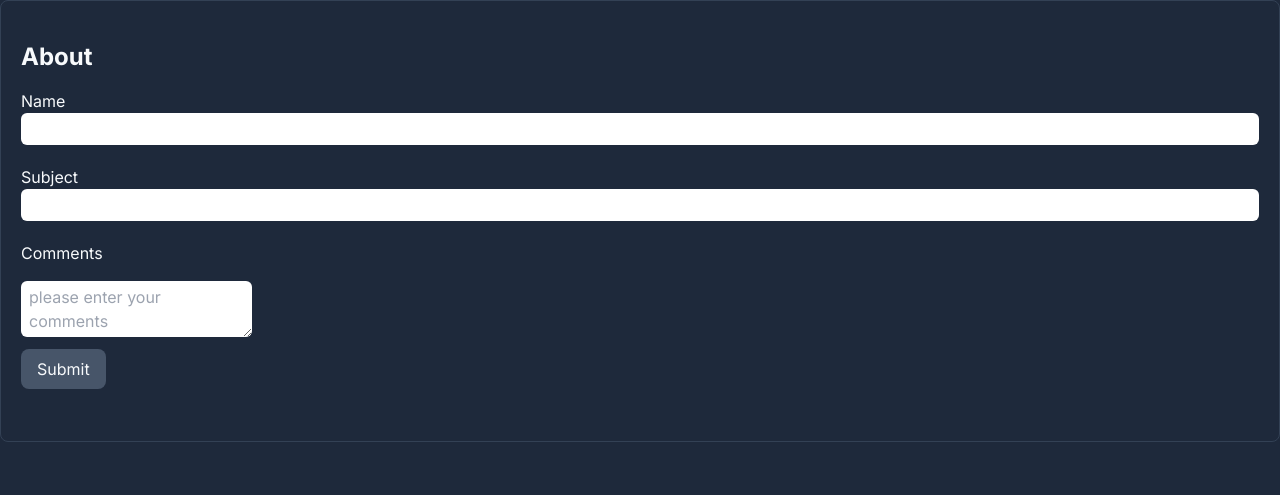
submit failed
Step 1. Type "Abraham" into the field labelled "Name" → [640, 129], box [21,113,1259,145]
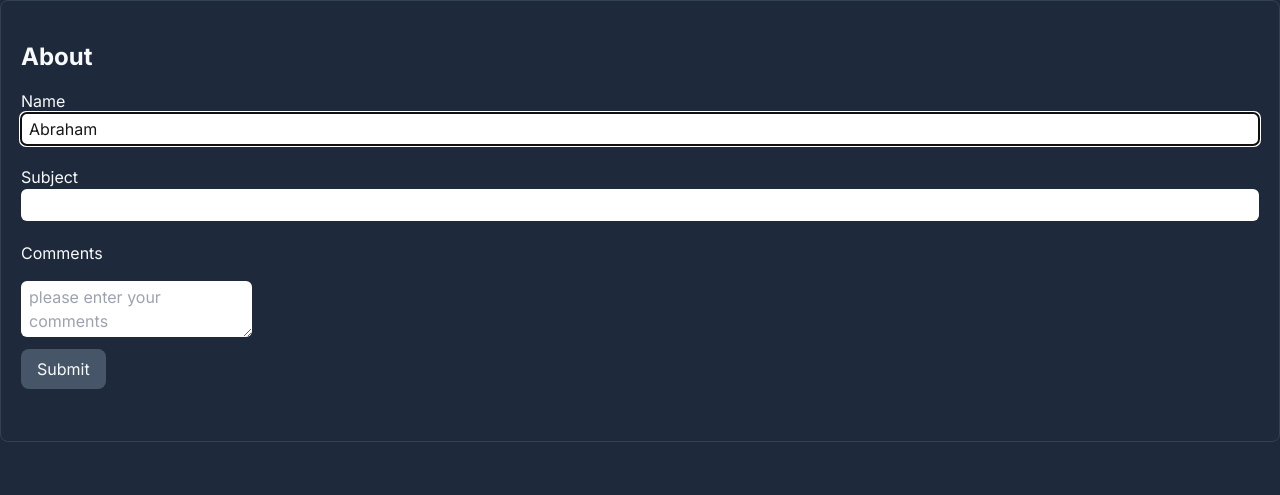
Step 2. Type "My feedback" into the field labelled "Subject" → [640, 205], box [21,189,1259,221]
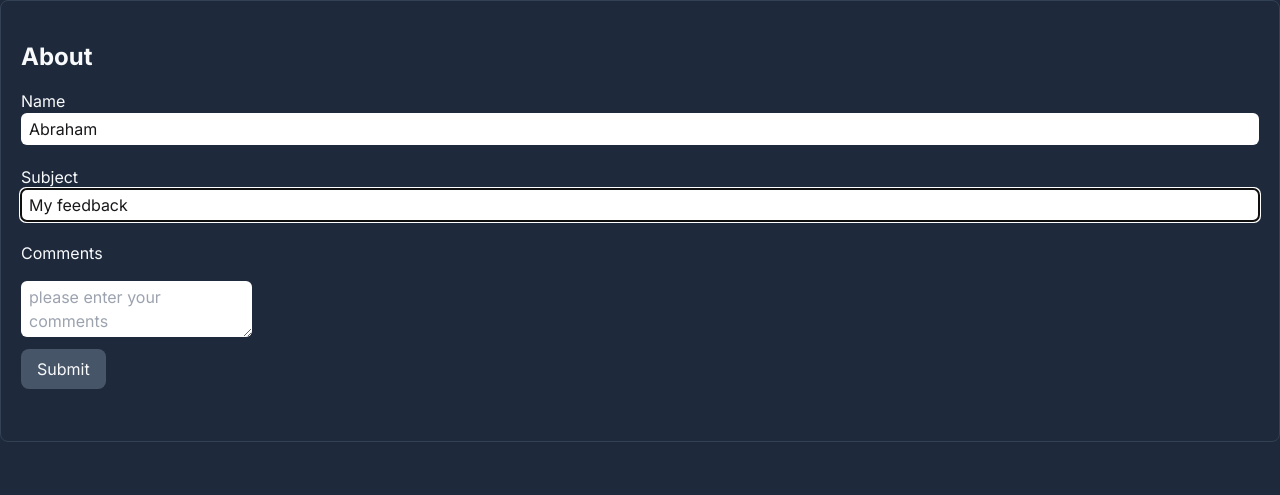
Step 3. Type "My comments" into the text box labelled "Comments" → [136, 309], box [21,281,252,337]
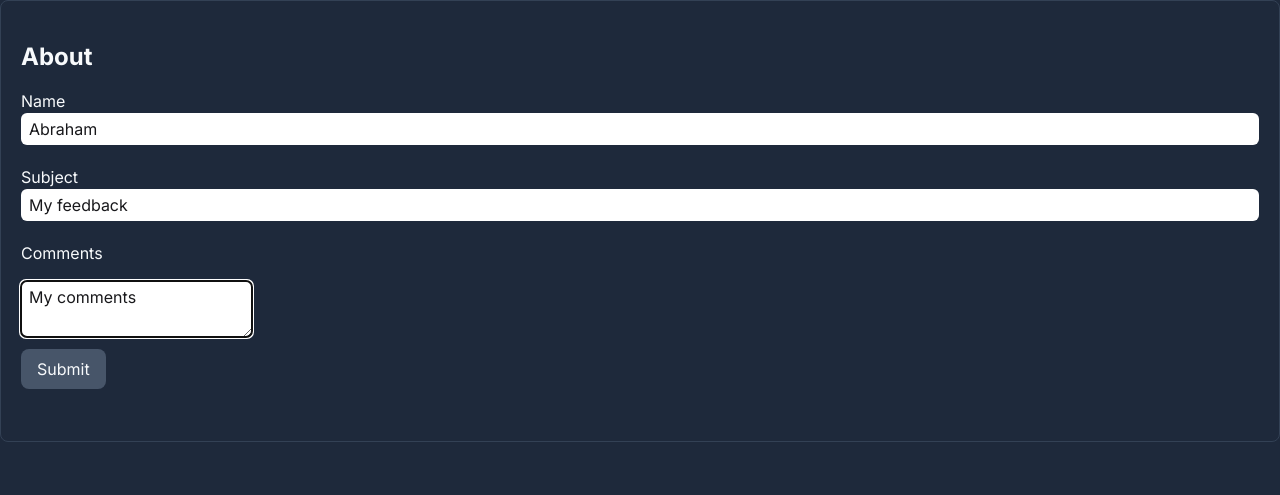
Step 4. Click the button "Submit" → [63, 369], box [21,349,106,389]
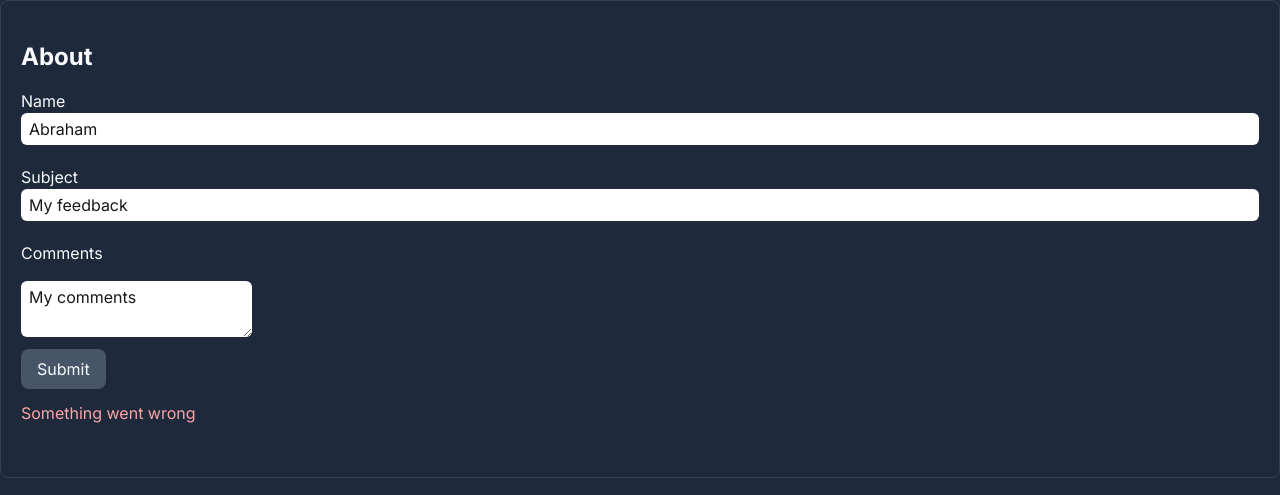
Result: the text "Something went wrong" is shown at [21,403,196,423]
